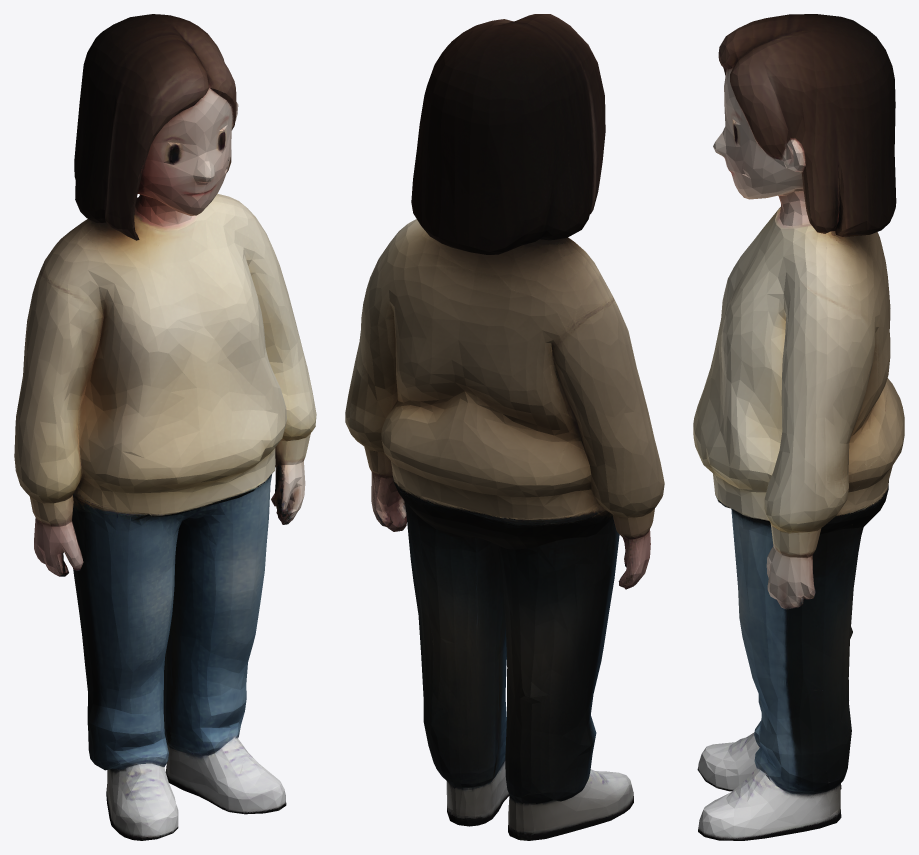
File: lead.glb
3 views of the same model, side by side, from view 1: azimuth 30°, elevation 25°; view 2: azimuth 150°, elevation 25°; view 3: azimuth 270°, elevation 25° (orthographic). The views are drawn at different scales.
Visible parts, largest first — view 1: world; view 2: world; view 3: world.
Part boxes in pixels (x1,y1,x2,y2): world: (14, 14, 316, 840); world: (345, 14, 664, 840); world: (693, 14, 904, 840).
Size of the model in its own units: 0.398 by 1 by 0.2464.
1 material, 1 textured.
